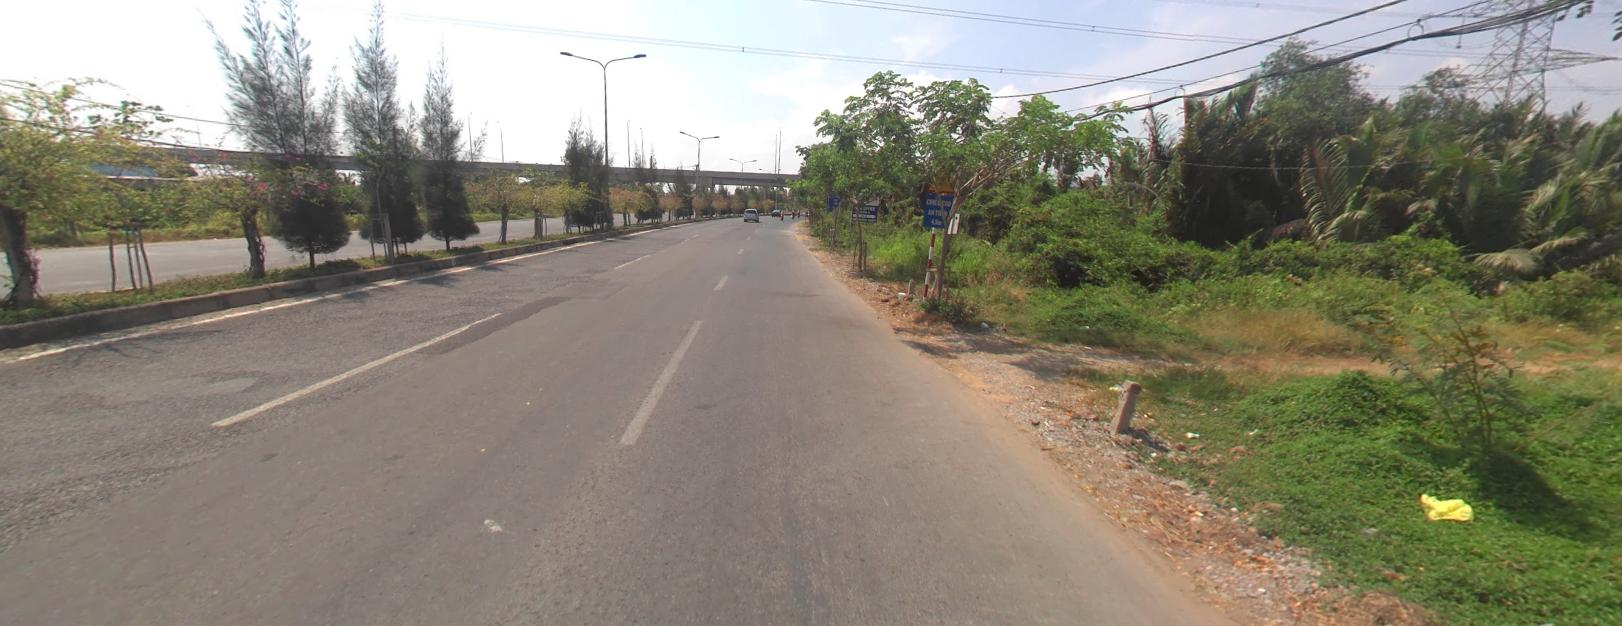Nguy hiem: (926, 163, 955, 193)
